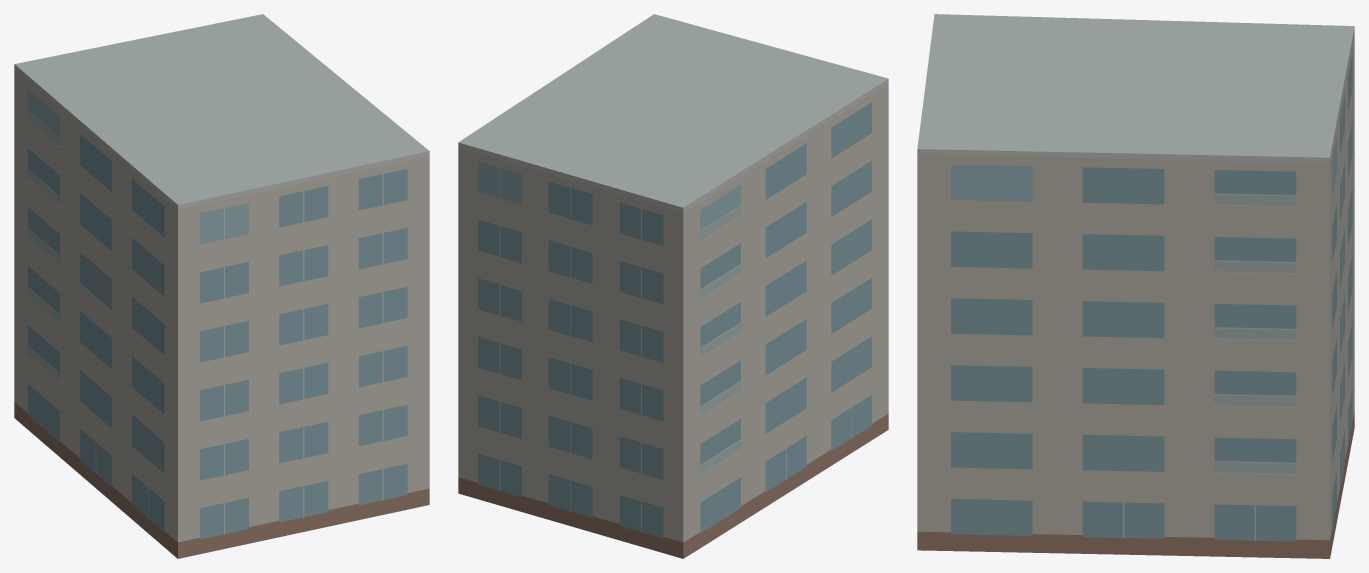
Rendered from survey-upis-32744601.glb.
3 views of the same model, side by side, from view 1: azimuth 30°, elevation 25°; view 2: azimuth 150°, elevation 25°; view 3: azimuth 270°, elevation 25° (orthographic). The views are drawn at different scales.
Parts seen in each view (by area): view 1: survey-upis-32744601.tmp; view 2: survey-upis-32744601.tmp; view 3: survey-upis-32744601.tmp.
Boxes of the visible parts, left/top/right/bottom form: survey-upis-32744601.tmp: left=14, top=14, right=429, bottom=558; survey-upis-32744601.tmp: left=458, top=14, right=888, bottom=558; survey-upis-32744601.tmp: left=917, top=14, right=1354, bottom=558.
Bounding box in the file's own units: 13.67 × 17.8 × 17.59.
